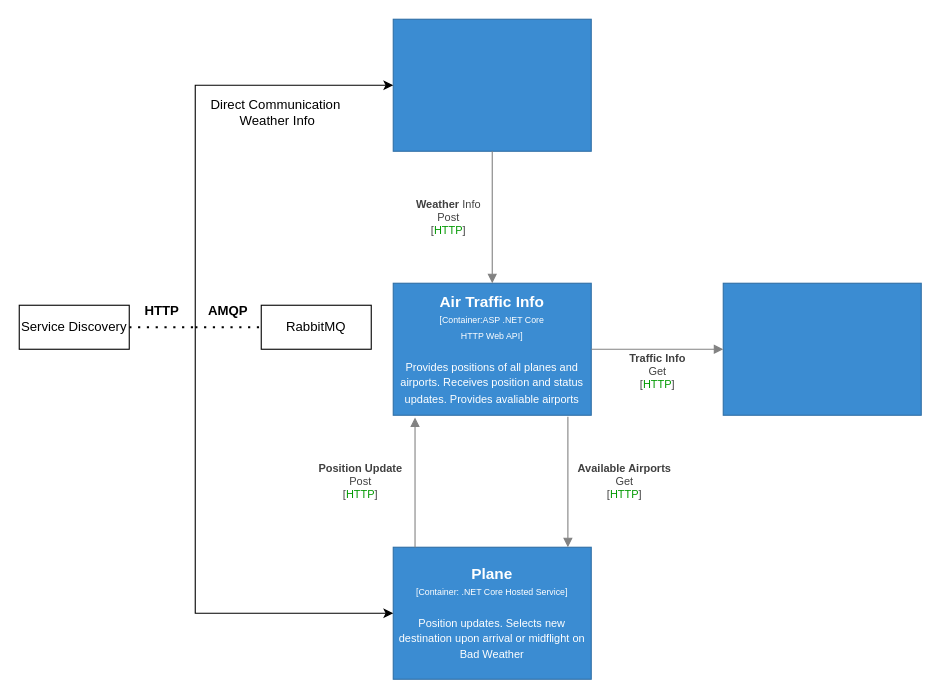
Some shapes in this 941 by 699 pixel diagram are drawn without their labels. The centre of each missing label's shape, as x and y in pixels:
"Airport [Container: .NET Core Hosted Service] Weather updates" belongs at (x=491, y=84).
"UI [Container: Angular] Displays air traffic" belongs at (x=821, y=348).
